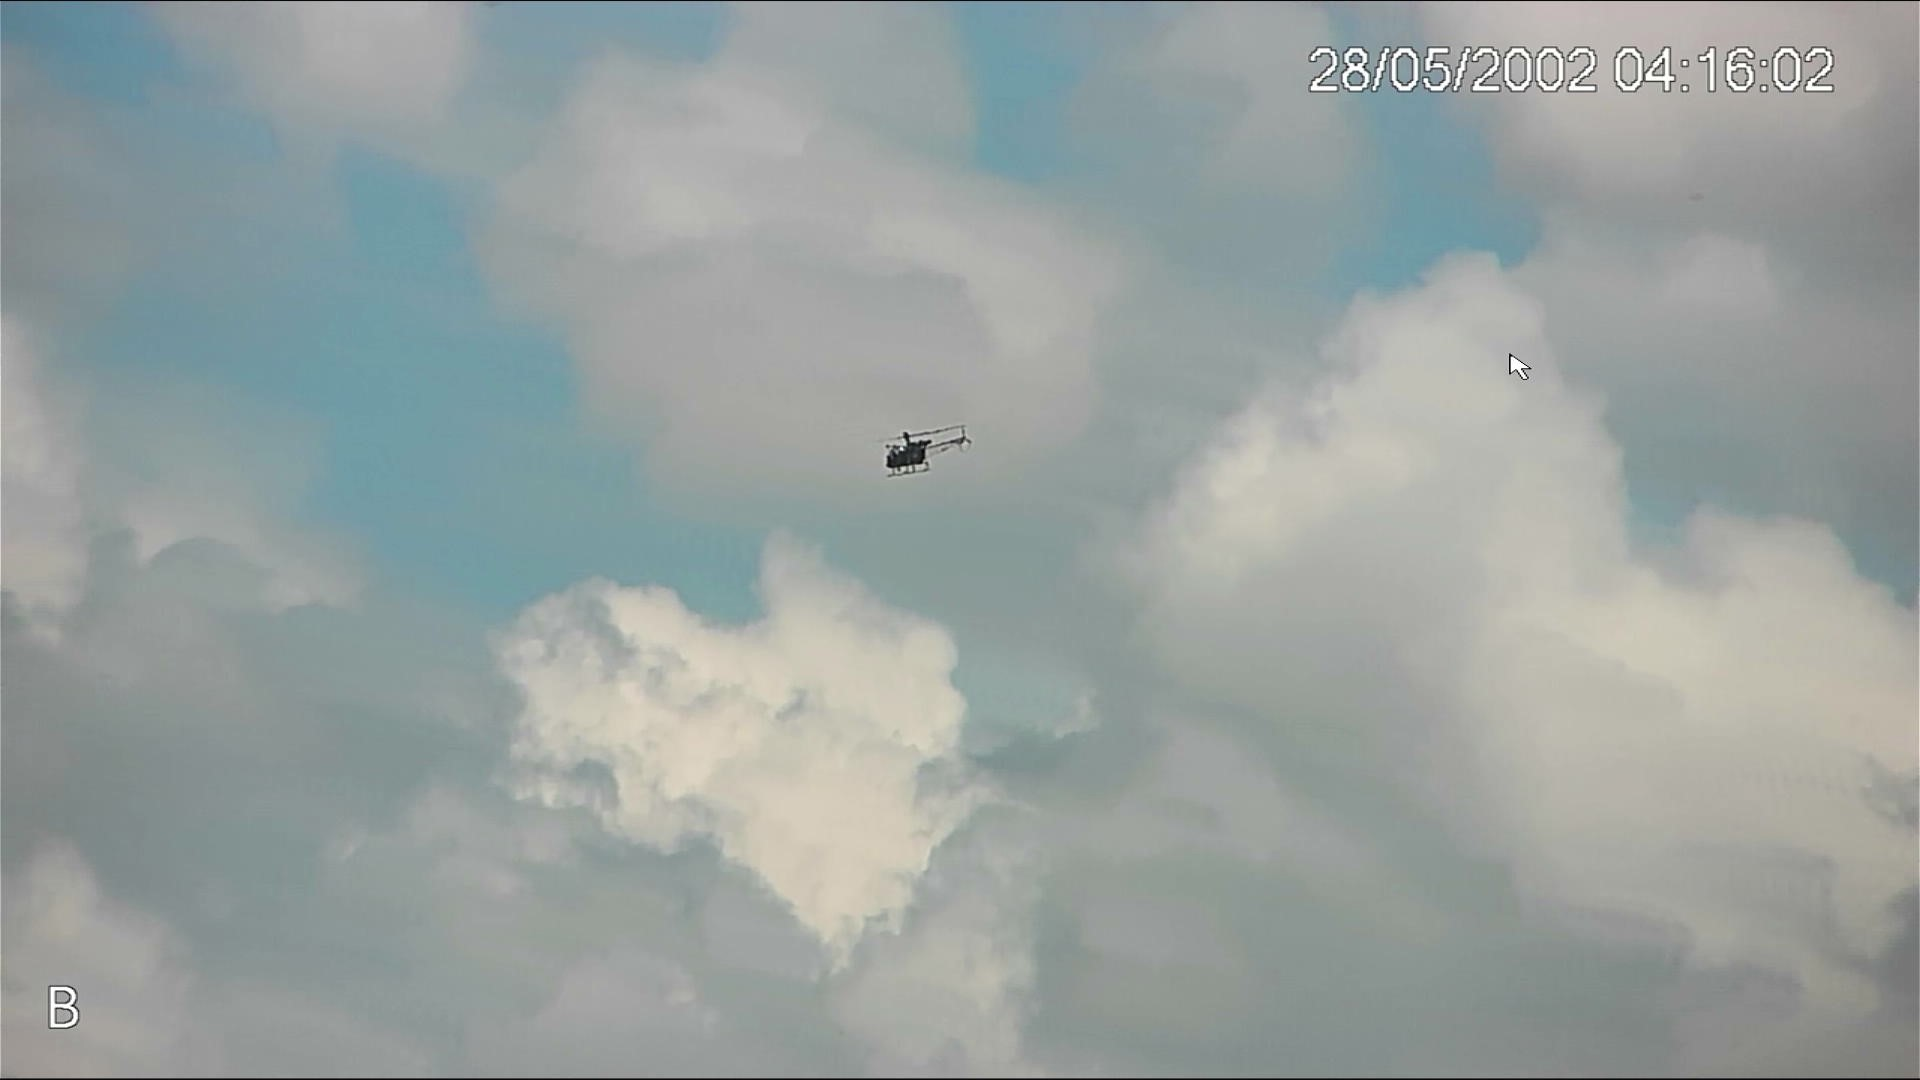SU_30: (872, 427, 977, 483)
